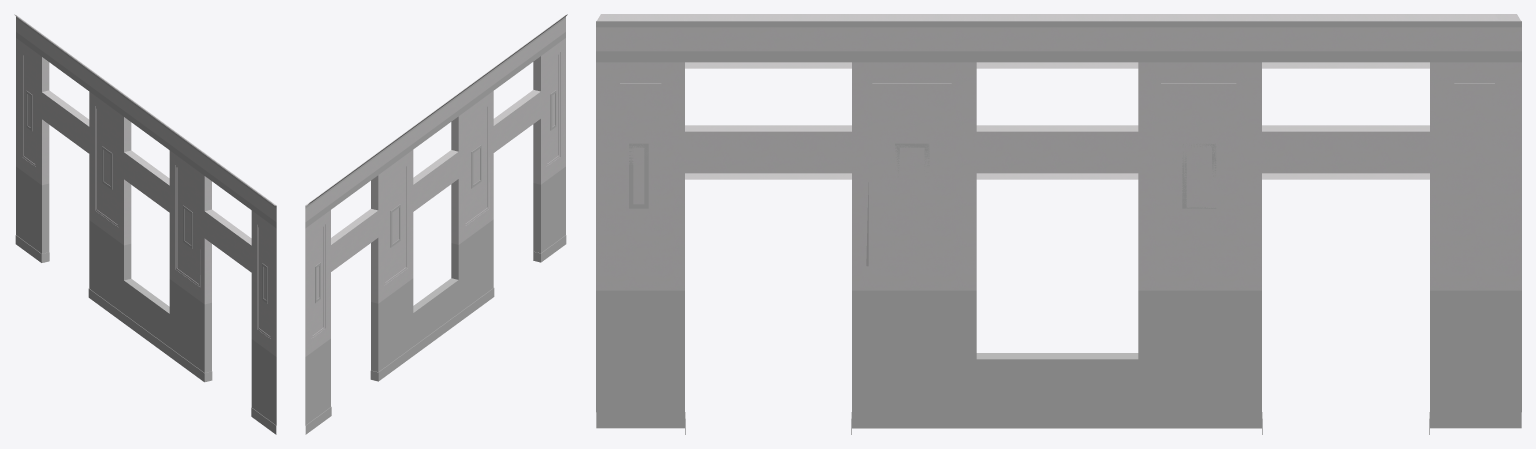
Rendered from SM_Wall_Tiled_35.fbx.
3 renders of one model, left to right at view 1: azimuth 30°, elevation 25°; view 2: azimuth 150°, elevation 25°; view 3: azimuth 270°, elevation 25°, orthographic. The views are drawn at different scales.
Visible parts, largest first — view 1: SM_Wall_Tiled_35; view 2: SM_Wall_Tiled_35; view 3: SM_Wall_Tiled_35.
Boxes of the visible parts, left/top/right/bottom form: SM_Wall_Tiled_35: left=14, top=14, right=276, bottom=434; SM_Wall_Tiled_35: left=305, top=14, right=567, bottom=434; SM_Wall_Tiled_35: left=596, top=14, right=1521, bottom=434.
Size of the model in its own units: 31.29 by 1315 by 645.
